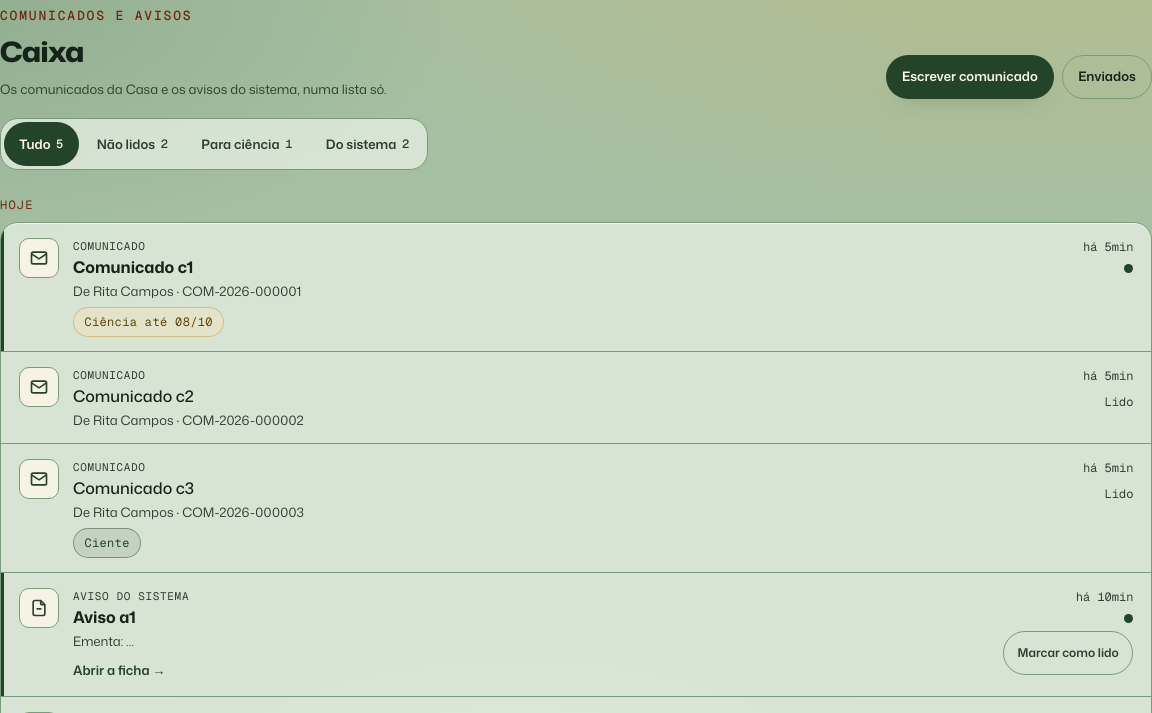
it: CaixaDaCasa — a lista › os quatro filtros, com a contagem, e cada um recorta o que diz
This screenshot has width=1152, height=713.
Expected: the heading "Aviso a1" is shown, [73, 606, 136, 628]
Click the button "Para ciência 1": [247, 144] box [186, 122, 308, 166]
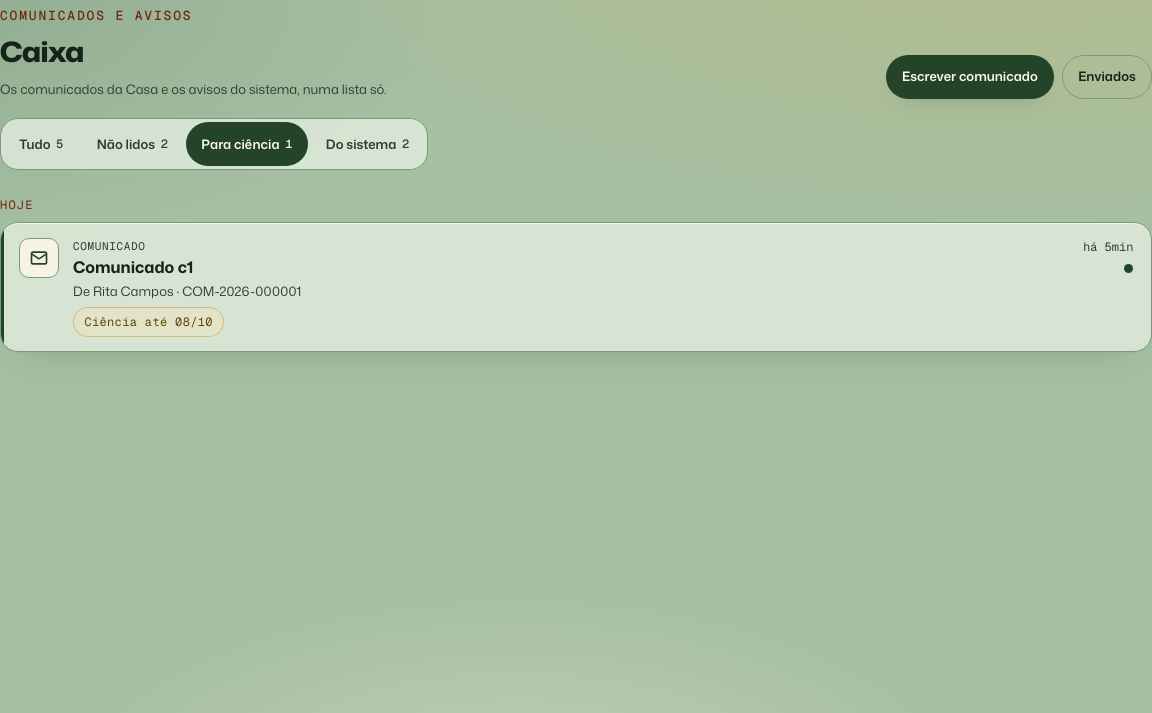
Expected: the link "Comunicado c1" is shown, [73, 256, 193, 278]
Expected: the link "Comunicado c3" is gone
Expected: the heading "Aviso a1" is gone
Click the button "Do sistema 2": [367, 144] box [310, 122, 424, 166]
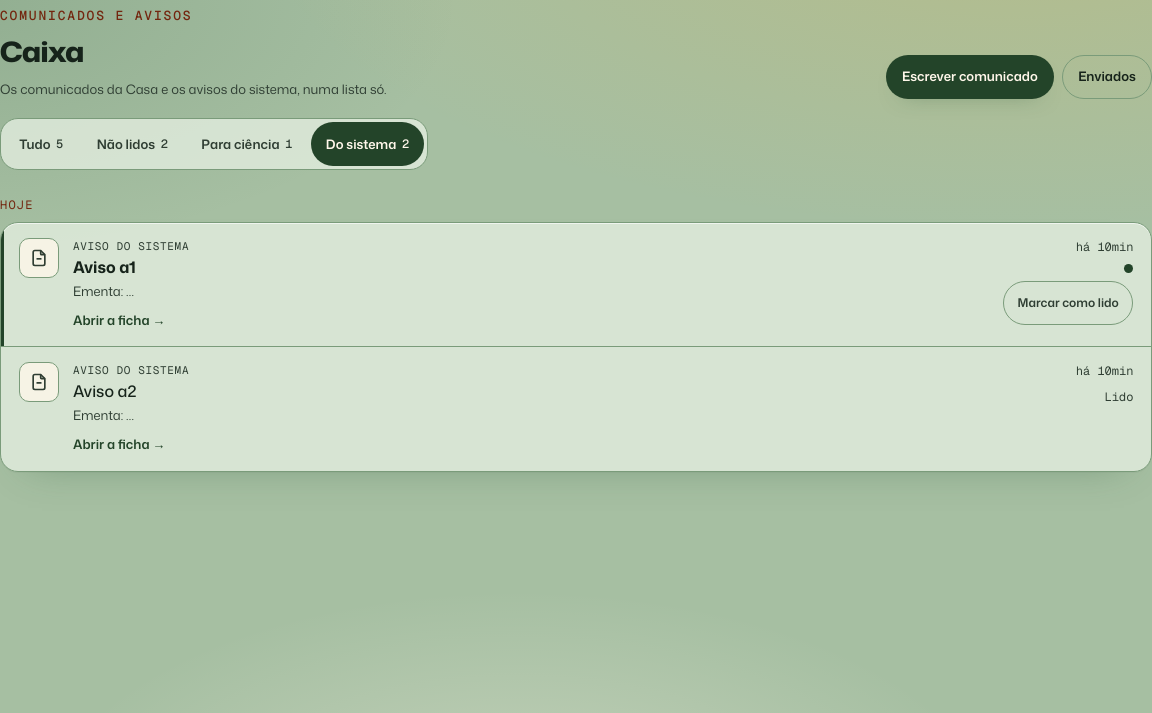
Expected: the heading "Aviso a1" is shown, [73, 256, 136, 278]
Expected: the heading "Aviso a2" is shown, [73, 380, 136, 402]
Expected: the link "Comunicado c1" is gone
Click the button "Não lidos 2": [132, 144] box [82, 122, 183, 166]
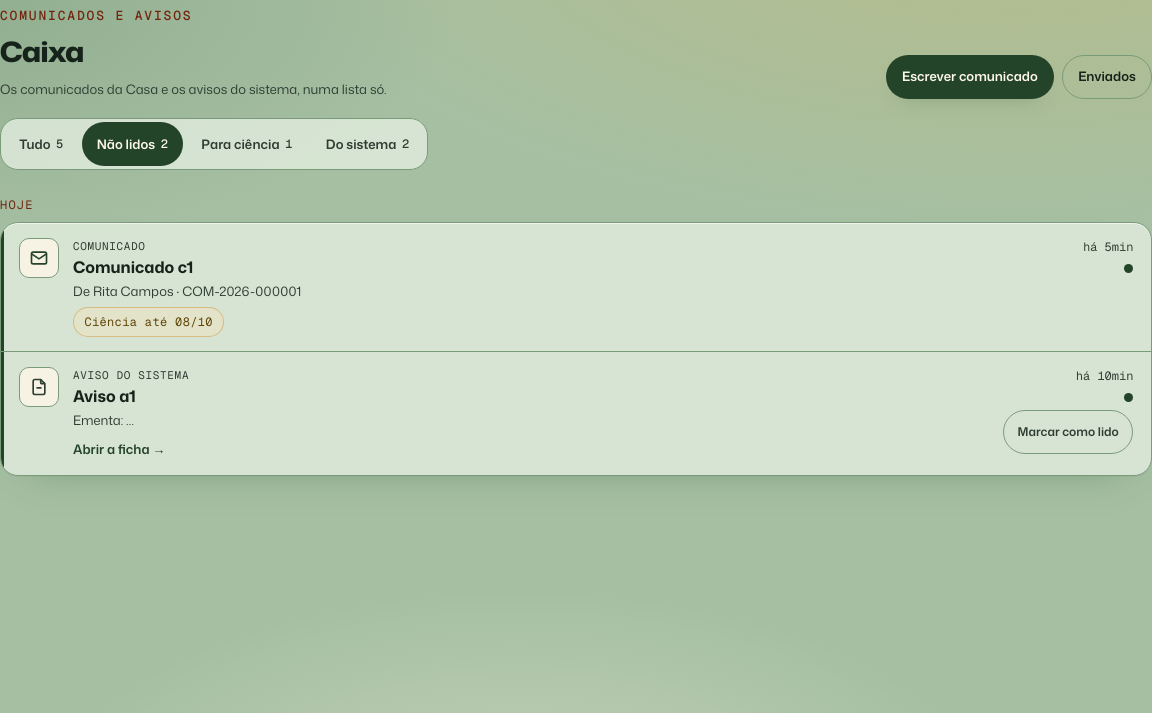
Expected: the link "Comunicado c2" is not shown
Expected: the heading "Aviso a1" is shown, [73, 385, 136, 407]
Expected: the link "Comunicado c1" is shown, [73, 256, 193, 278]
